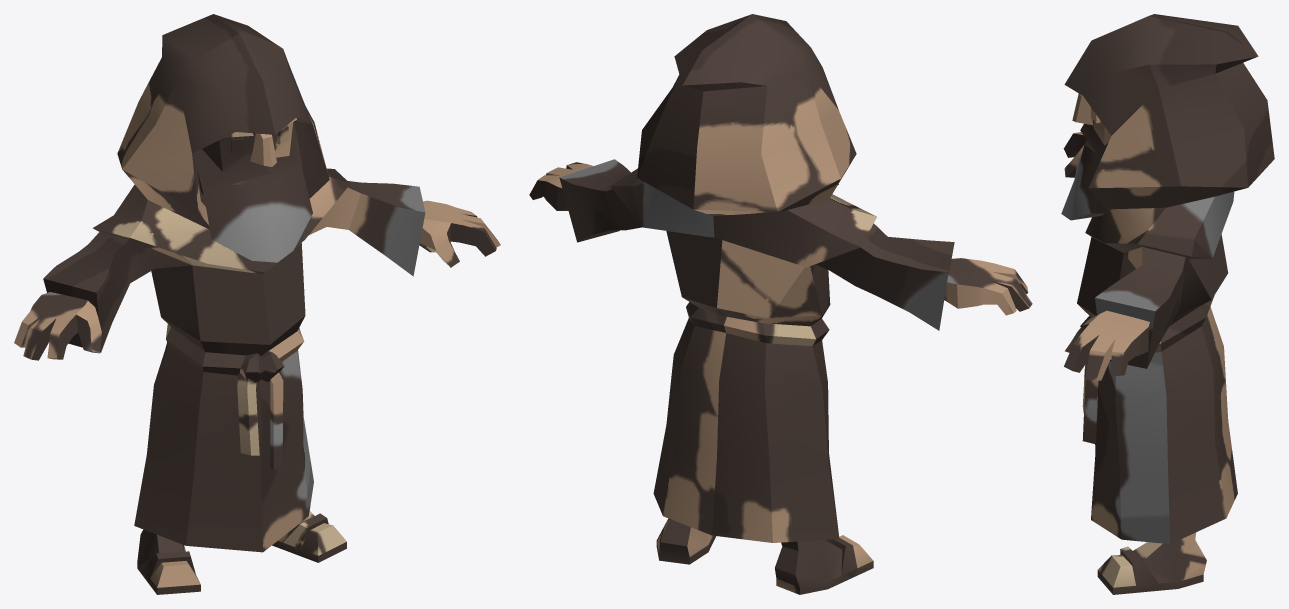
File: monk_character.obj
3 renders of one model, left to right at view 1: azimuth 30°, elevation 25°; view 2: azimuth 150°, elevation 25°; view 3: azimuth 270°, elevation 25°, orthographic. The views are drawn at different scales.
Parts seen in each view (by area): view 1: monk_0; view 2: monk_0; view 3: monk_0.
Boxes of the visible parts, x1=… form: monk_0: x1=14, y1=14, x2=500, y2=594; monk_0: x1=529, y1=14, x2=1032, y2=594; monk_0: x1=1061, y1=14, x2=1274, y2=594.
Size of the model in its own units: 1.45 by 1.53 by 0.5551.
